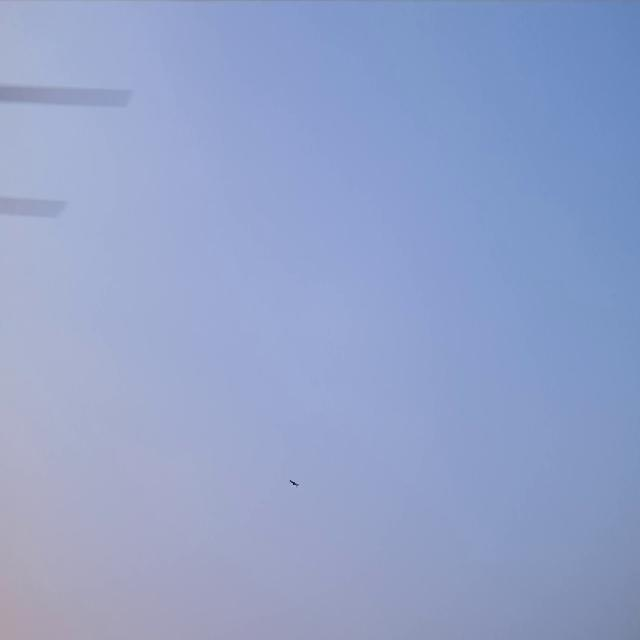UAV: (288, 477, 300, 492)
